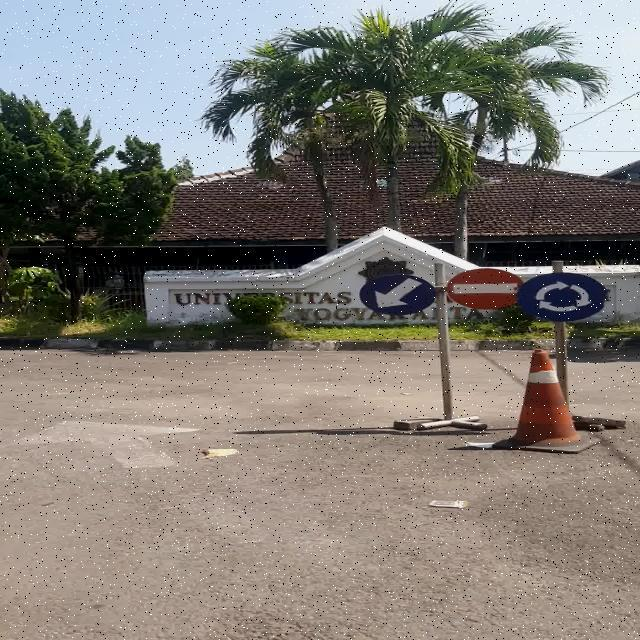Ikuti Bundaran: (517, 272, 606, 322)
Lajur Kiri: (359, 274, 437, 316)
